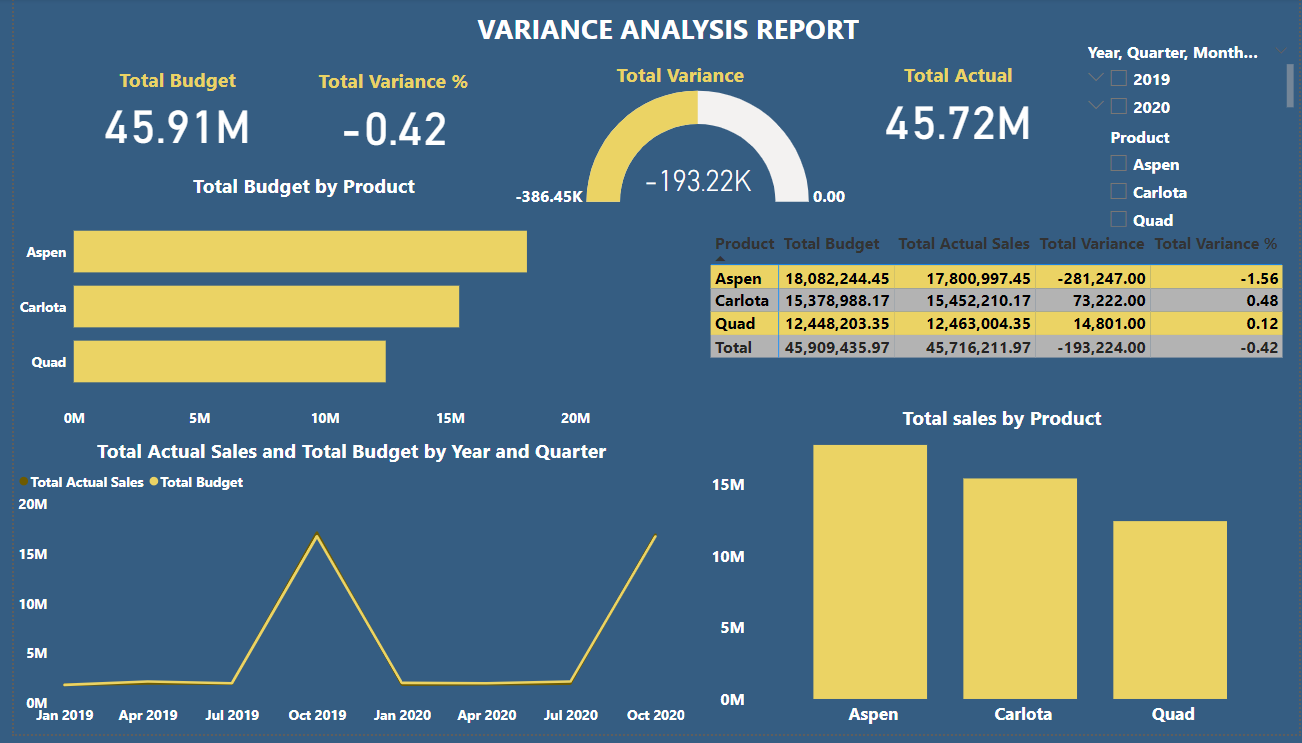

The page's visual inventory and layout, read from the dashboard file:
{"tool":"powerbi","page":{"name":"Dashboard","canvas":[1500,860],"ordinal":1},"visuals":[{"type":"card","title":"Total Actual","fields":{"Values":["Merge1.Total Actual Sales"]},"box":[988.5,73,229.2,100.7],"z":0},{"type":"card","title":"Total Budget","fields":{"Values":["Merge1.Total Budget"]},"box":[76.5,79.4,230,100],"z":1000},{"type":"card","title":"Total Variance %","fields":{"Values":["Merge1.Total Variance %"]},"box":[328.5,80.3,229.2,100.7],"z":2000},{"type":"columnChart","title":" Total sales by Product","fields":{"Category":["Merge1.Product"],"Y":["Sum(Merge1.Total sales by month)"]},"box":[808.9,474.5,690.6,385.5],"z":3000},{"type":"barChart","fields":{"Category":["Merge1.Product"],"Y":["Merge1.Total Budget"]},"box":[0,203,677.5,309.5],"z":4000},{"type":"lineChart","fields":{"Y":["Merge1.Total Actual Sales","Merge1.Total Budget"],"Category":["Merge1.Date.Variation.Date Hierarchy.Year","Merge1.Date.Variation.Date Hierarchy.Quarter","Merge1.Date.Variation.Date Hierarchy.Month","Merge1.Date.Variation.Date Hierarchy.Day"]},"box":[0,512.5,788.5,347.5],"z":5000},{"type":"slicer","fields":{"Values":["Merge1.Product"]},"box":[1267.4,144.6,232.2,137.2],"z":6000},{"type":"slicer","fields":{"Values":["Merge1.Date.Variation.Date Hierarchy.Year","Merge1.Date.Variation.Date Hierarchy.Quarter","Merge1.Date.Variation.Date Hierarchy.Month","Merge1.Date.Variation.Date Hierarchy.Day"]},"box":[1241.1,45.3,258.4,99.3],"z":7000},{"type":"gauge","fields":{"Y":["Merge1.Total Variance"]},"box":[547.5,73,461.4,175.2],"z":8000},{"type":"pivotTable","fields":{"Rows":["Merge1.Product"],"Values":["Merge1.Total Budget","Merge1.Total Actual Sales","Merge1.Total Variance","Merge1.Total Variance %"]},"box":[808.9,281.8,690.6,181.1],"z":9000},{"type":"textbox","box":[497.9,8.8,532.9,71.5],"z":9001}]}

Visuals, with their boxes in screenshot pixels (x1, y1, x2, y2), scaled from the page's 1500x860 canvas onto the 1302x743 screenshot:
"Total Actual" card: [left=858, top=63, right=1057, bottom=150]
"Total Budget" card: [left=66, top=69, right=266, bottom=155]
"Total Variance %" card: [left=285, top=69, right=484, bottom=156]
" Total sales by Product" columnChart: [left=702, top=410, right=1301, bottom=742]
barChart - Merge1.Product x Merge1.Total Budget: [left=0, top=175, right=588, bottom=443]
lineChart - Merge1.Total Actual Sales x Merge1.Total Budget: [left=0, top=443, right=684, bottom=742]
slicer - Merge1.Product: [left=1100, top=125, right=1301, bottom=243]
slicer - Merge1.Date.Variation.Date Hierarchy.Year x Merge1.Date.Variation.Date Hierarchy.Quarter: [left=1077, top=39, right=1301, bottom=125]
gauge - Merge1.Total Variance: [left=475, top=63, right=876, bottom=214]
pivotTable - Merge1.Product x Merge1.Total Budget: [left=702, top=243, right=1301, bottom=400]
textbox: [left=432, top=8, right=895, bottom=69]
